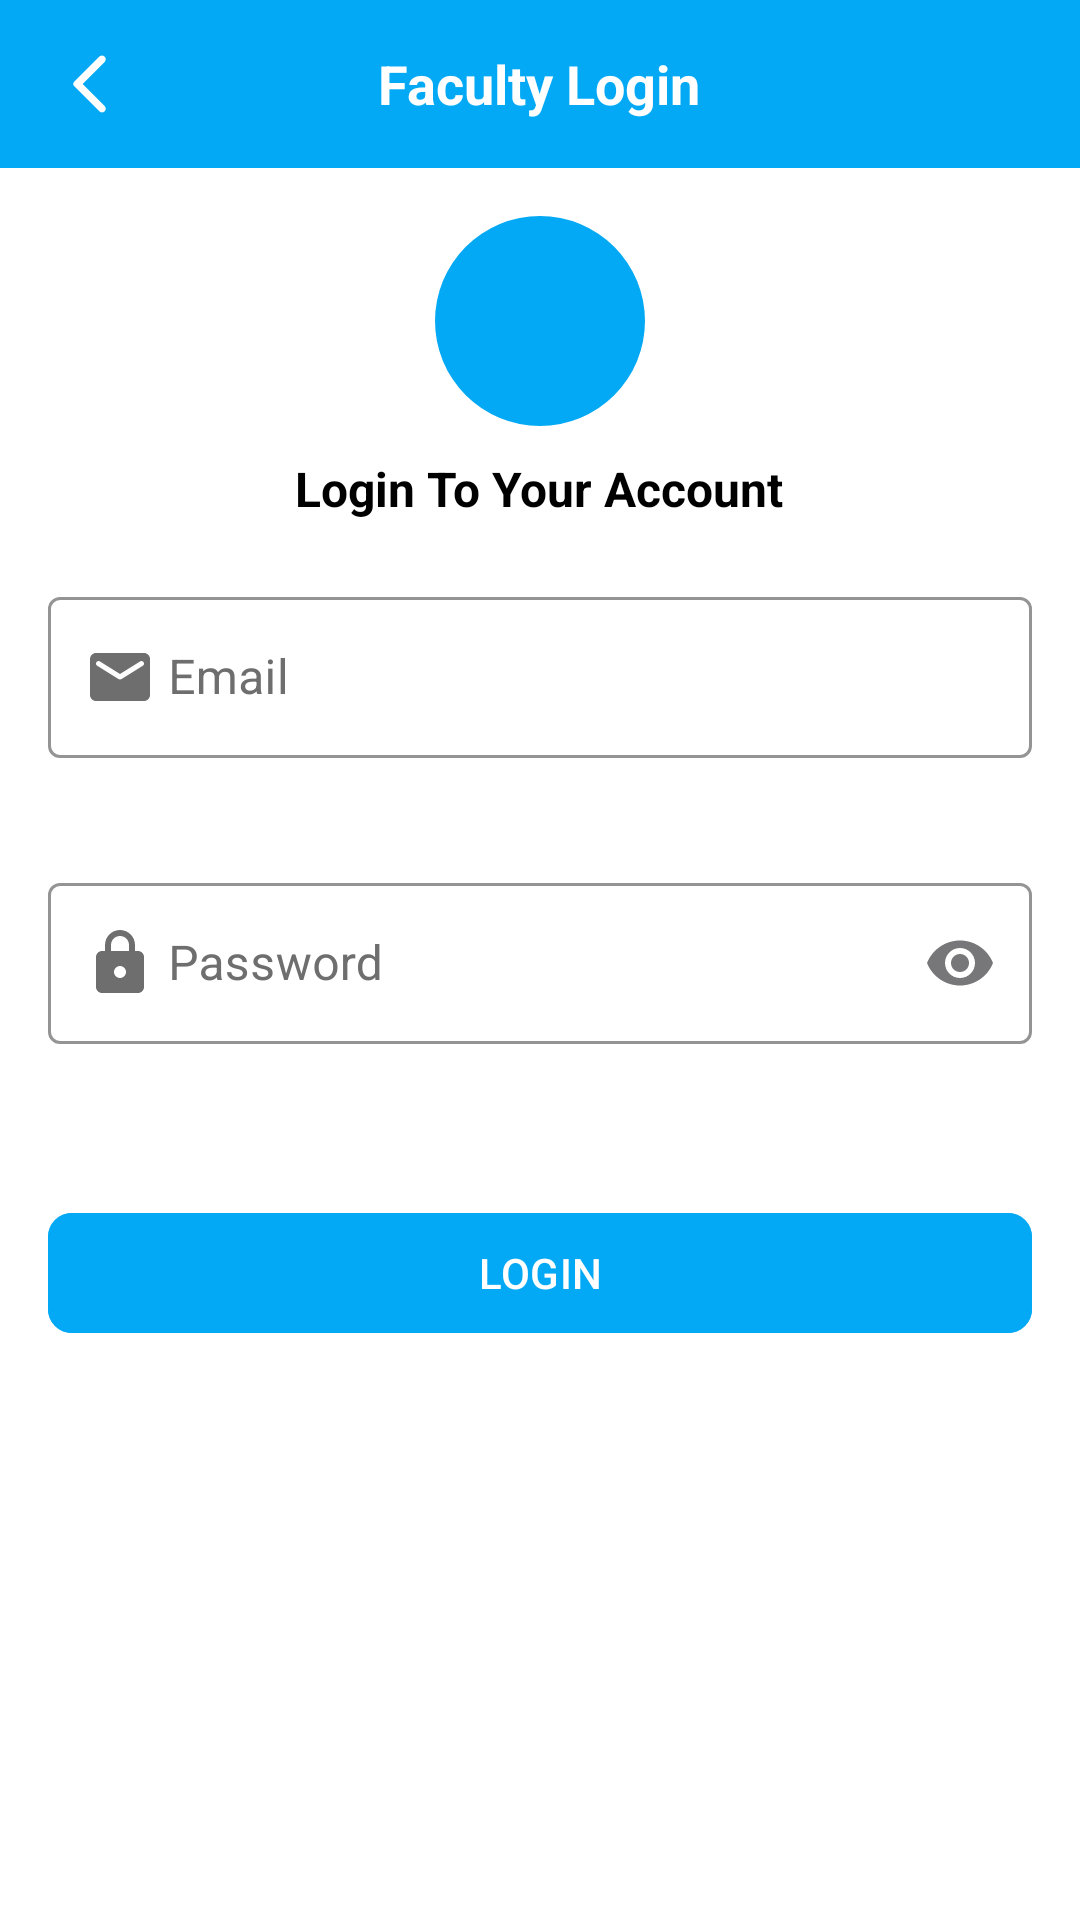

Locate icon controls on the screen. Image size 1080×1920, boxes as (x1, y1, x2, y2).
back: (73, 55, 106, 113)
